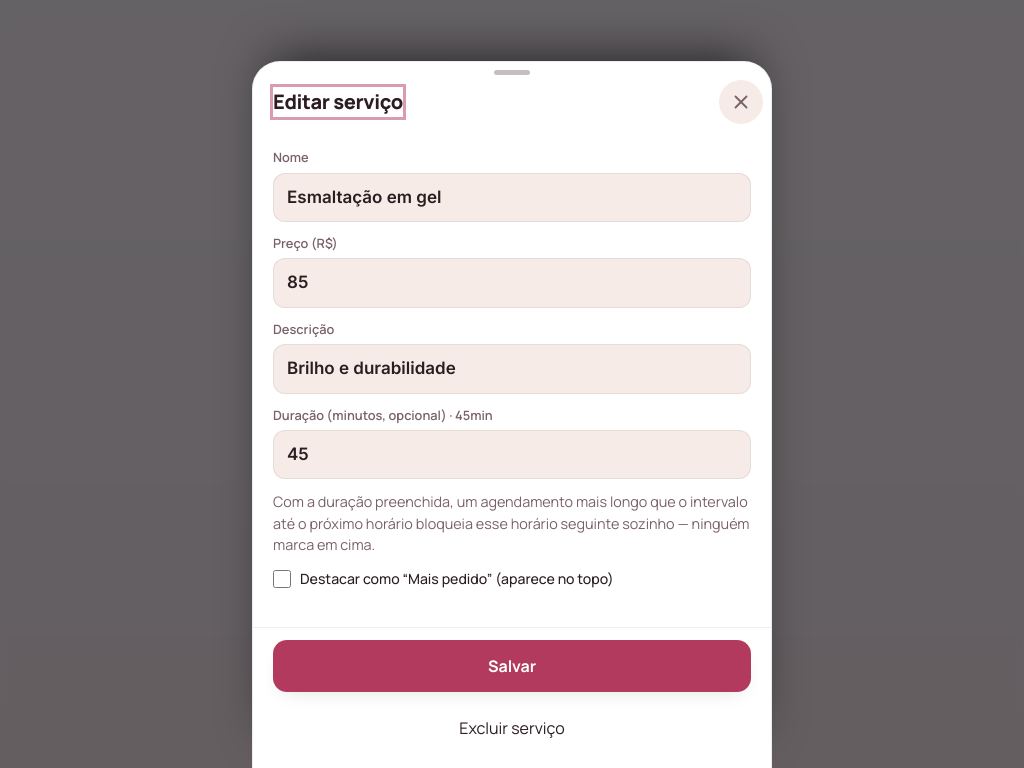
Scenario: FolhaServico — editar › Excluir abre um diálogo próprio (não o confirm nativo) antes de apagar
The width and height of the screenshot is (1024, 768).
Click the button "Excluir serviço".
click(512, 728)  # box [273,702,751,754]
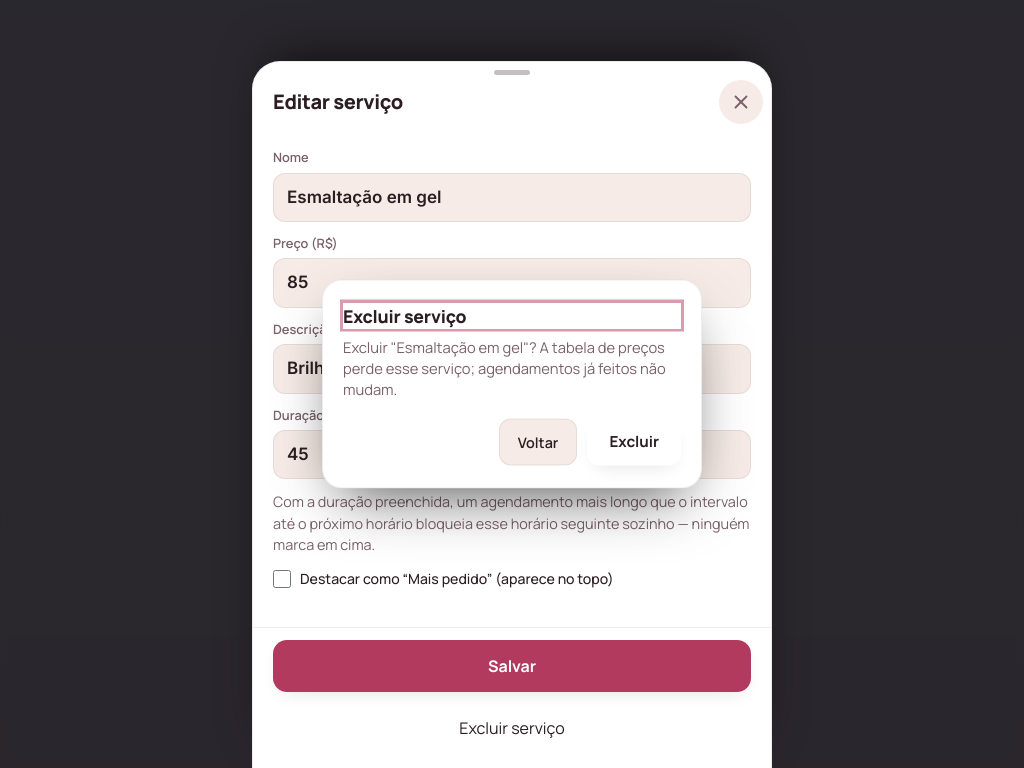
expect the dialog "Excluir serviço" is shown: met, box [322,280,702,488]
